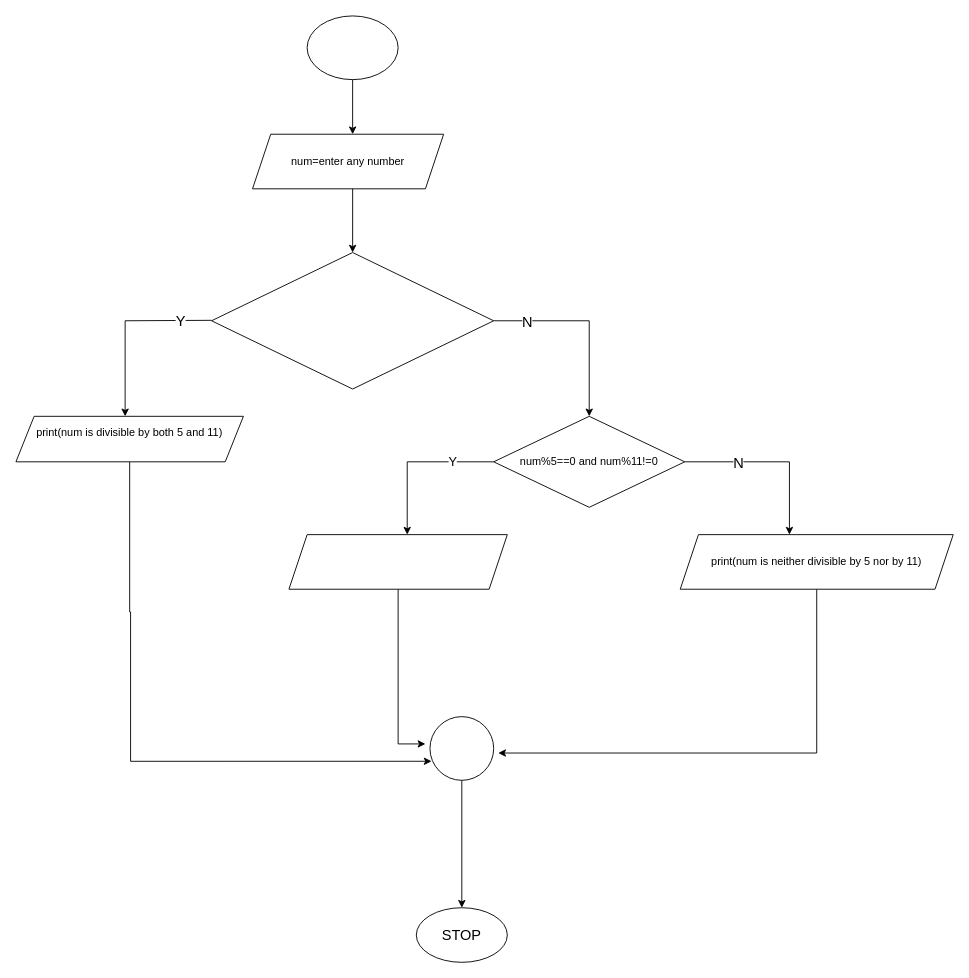
Some shapes in this 969 by 978 pixel diagram are drawn without their labels. Here are the shapes that lost their labels. From the top down, the centre of each, then its label:
the point at 352,47: START
the point at 352,320: if num%5==0 and num%11==0:
the point at 397,561: print(num is divisible by 5 but not by 11)
